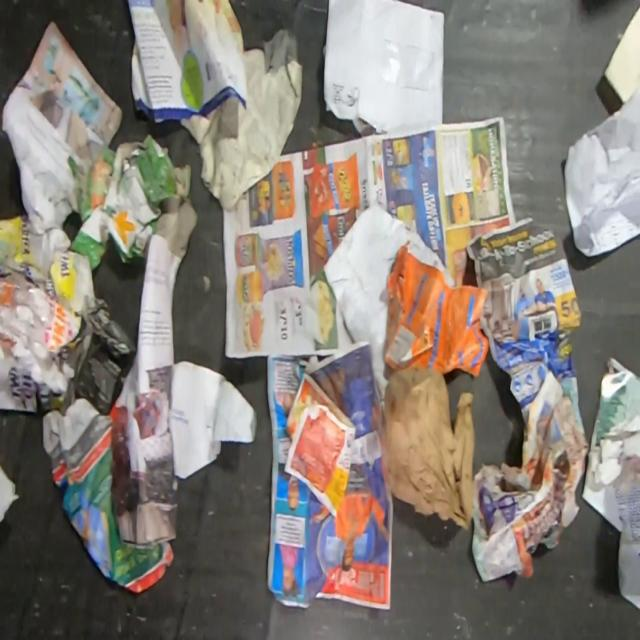metal: (120, 143, 149, 176)
